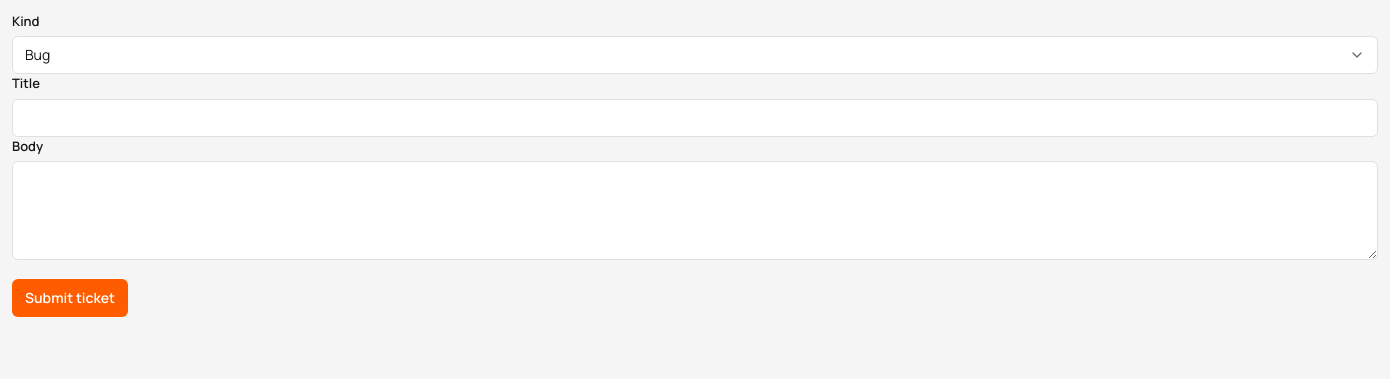
Test: CreateTicketForm › shows the server error message
Type "Login button broken" into the field labelled "Title". click: (695, 118)
box: [12,99,1378,137]
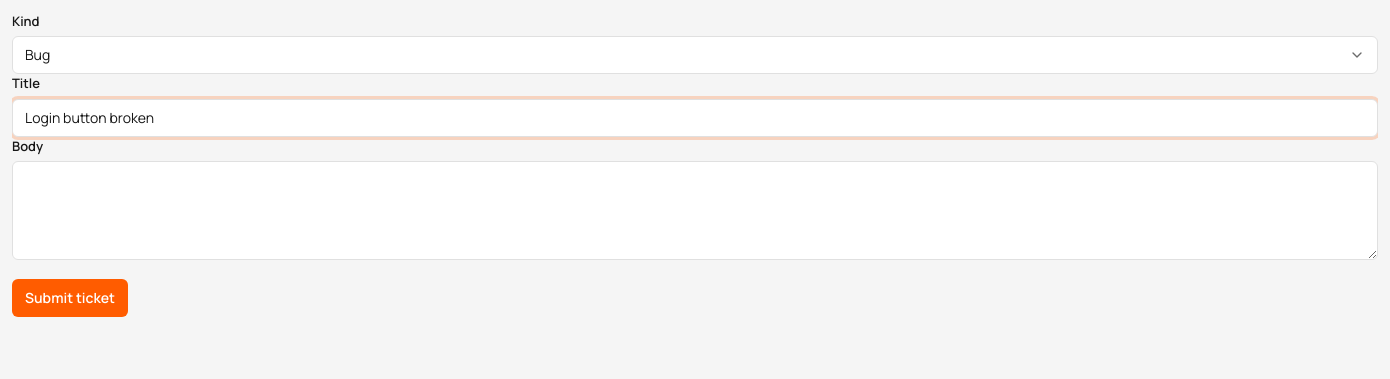
Type "Nothing happens." into the text box labelled "Body". click: (695, 210)
box: [12,161,1378,260]
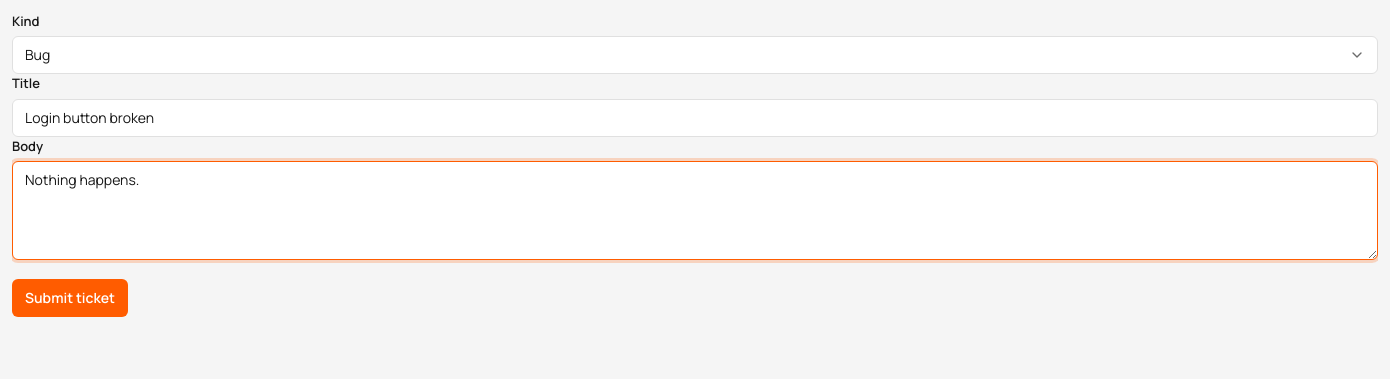
Click the button "Submit ticket". click: (70, 298)
box: [12,279,128,317]
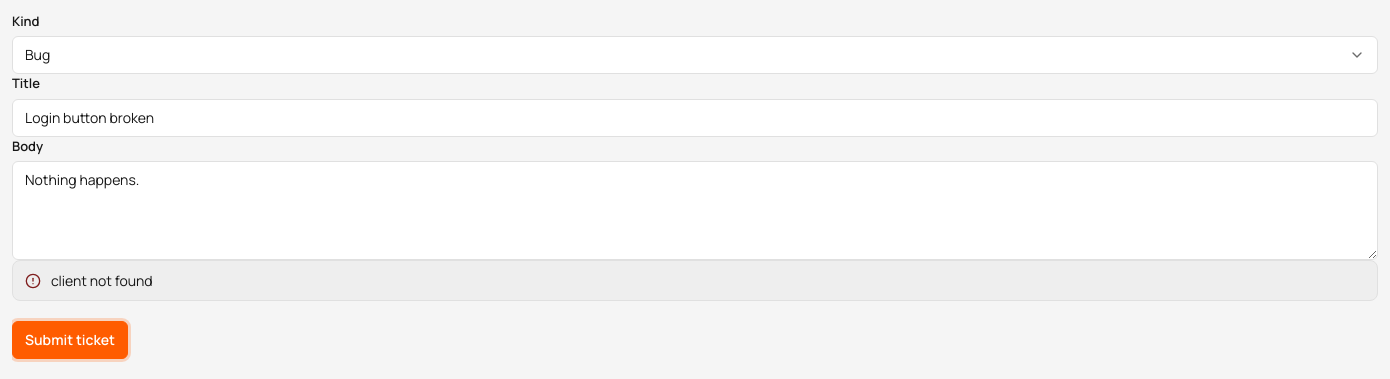
Check: the message reads "client not found", box [51,271,153,290]
